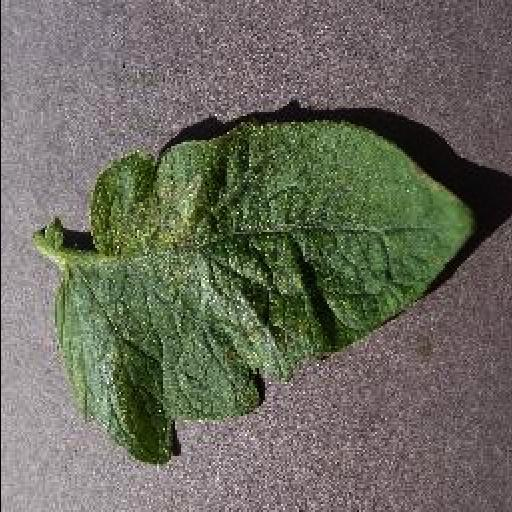disease_tomato: (50, 114, 478, 464)
